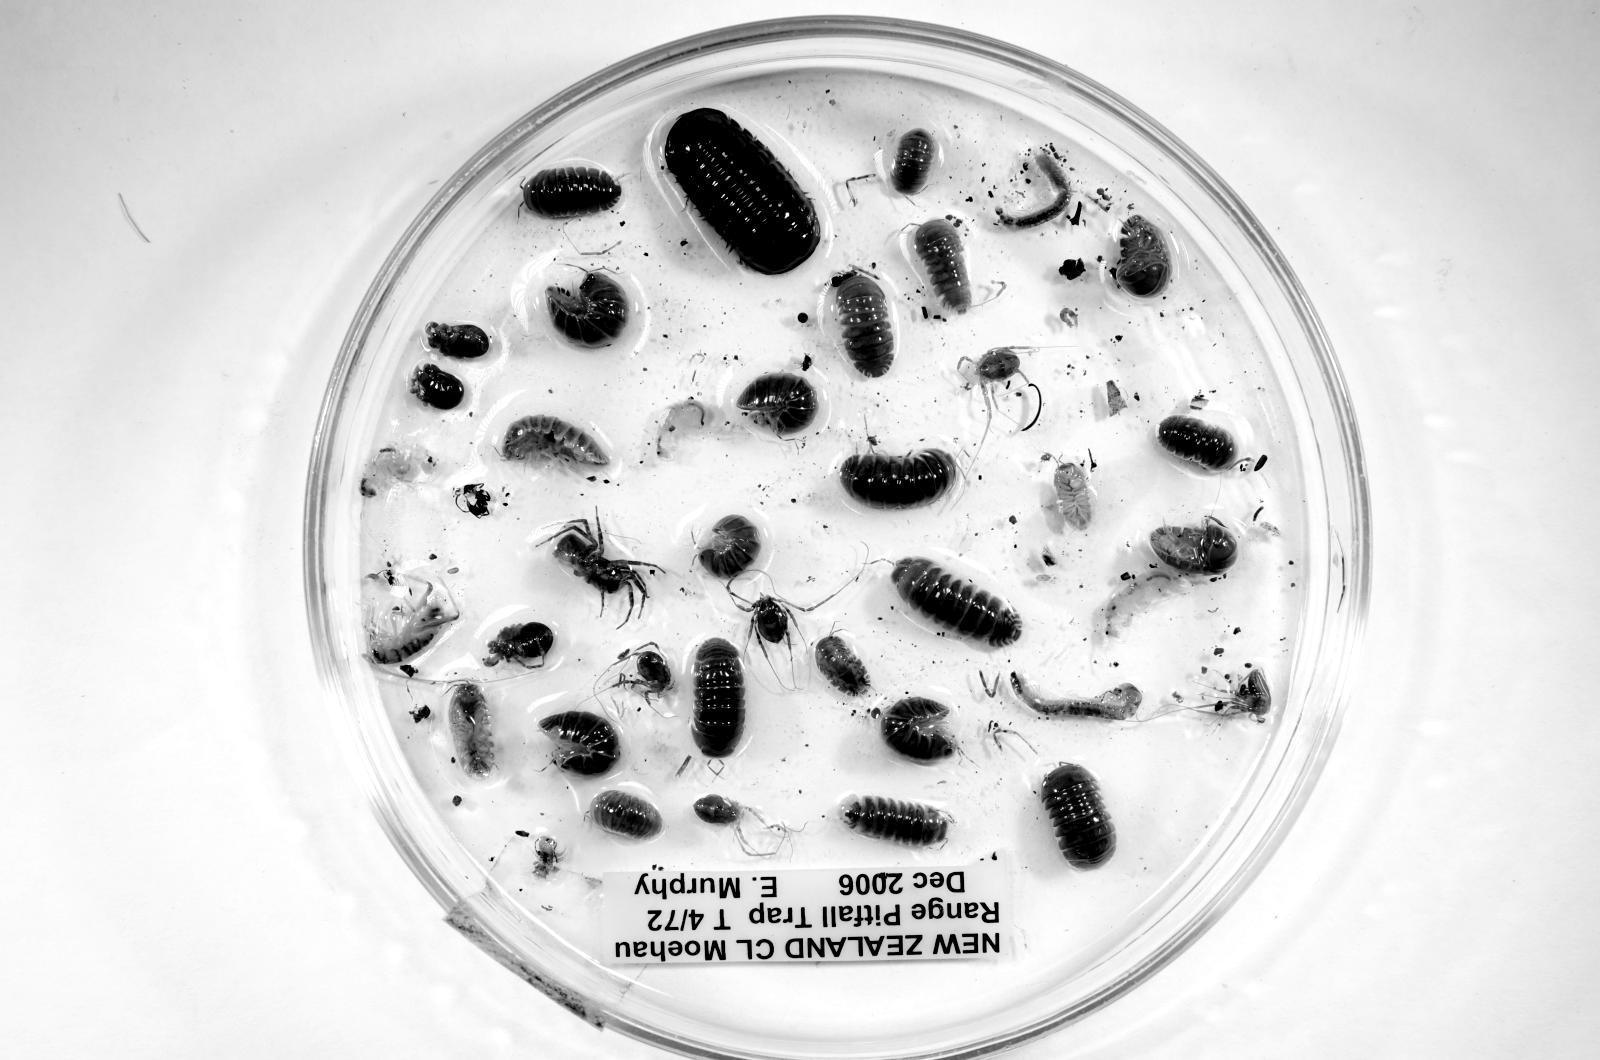amphipoda: (1103, 569, 1179, 638), (359, 444, 438, 498), (655, 397, 707, 459)
araneae: (552, 506, 662, 628)
diplopoda: (1010, 671, 1141, 719)
isopoda: (662, 109, 821, 274), (893, 557, 1022, 647), (1042, 763, 1115, 870), (841, 448, 956, 509), (833, 271, 895, 377), (692, 638, 745, 757), (837, 794, 952, 847), (546, 273, 628, 348), (501, 414, 610, 467), (913, 219, 971, 314), (523, 164, 622, 219), (539, 711, 621, 776), (737, 373, 818, 437), (881, 696, 957, 764), (1149, 516, 1237, 574), (1112, 215, 1172, 296), (448, 683, 494, 778), (1158, 415, 1238, 470), (698, 516, 760, 580), (590, 789, 662, 840), (816, 636, 869, 696), (892, 129, 938, 195), (1054, 463, 1093, 530)
opiliones: (482, 621, 555, 668), (614, 649, 672, 699), (410, 363, 465, 411), (426, 322, 488, 358), (1232, 668, 1271, 723), (750, 594, 790, 644), (693, 794, 745, 826), (976, 348, 1021, 383)
orthoptera: (364, 576, 460, 664)
